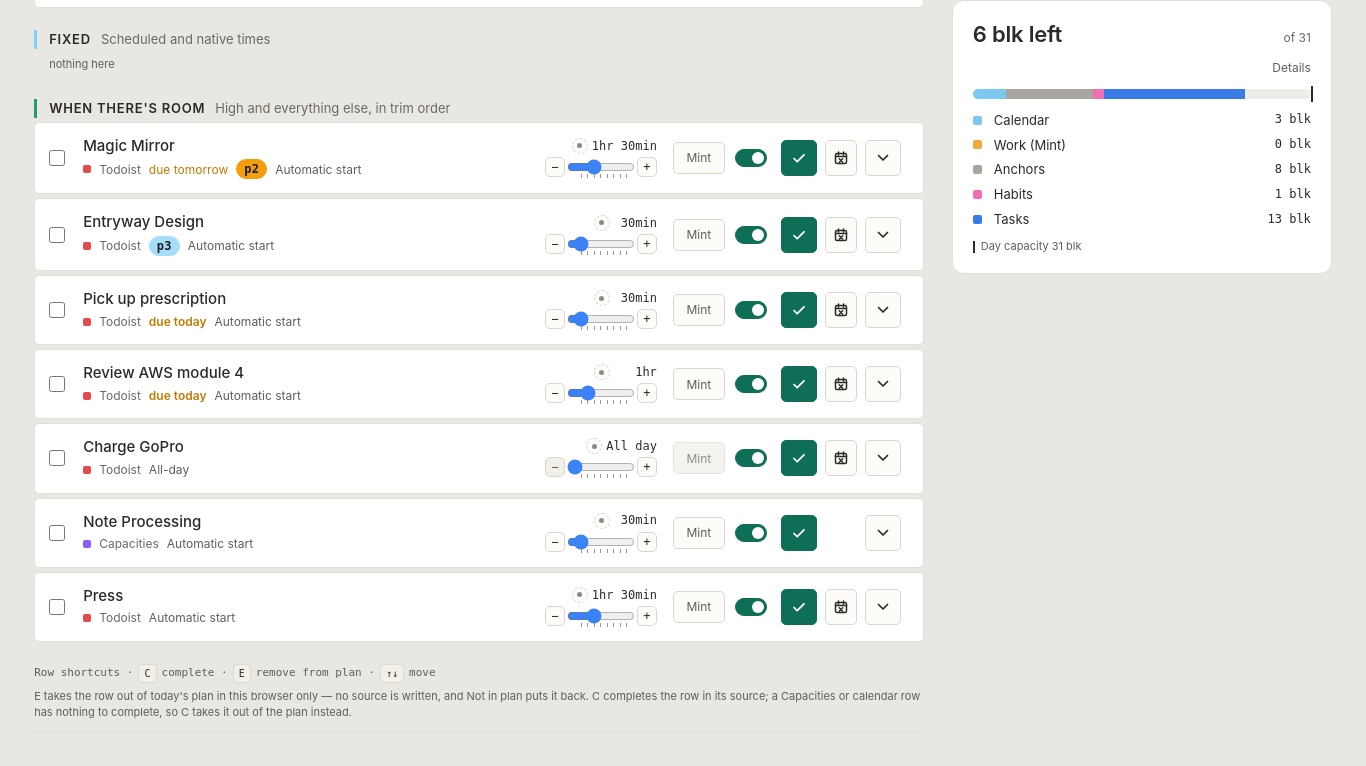
Test: #18 May overlap Mint toggle on the collapsed row › (b) is disabled with the written reason once the row goes all-day
(page scrolled)
What coordinates should you click on to do the following:
click the 7th button named "Expand"
I would click on:
 (883, 607)
Its box is [865,589,901,625].
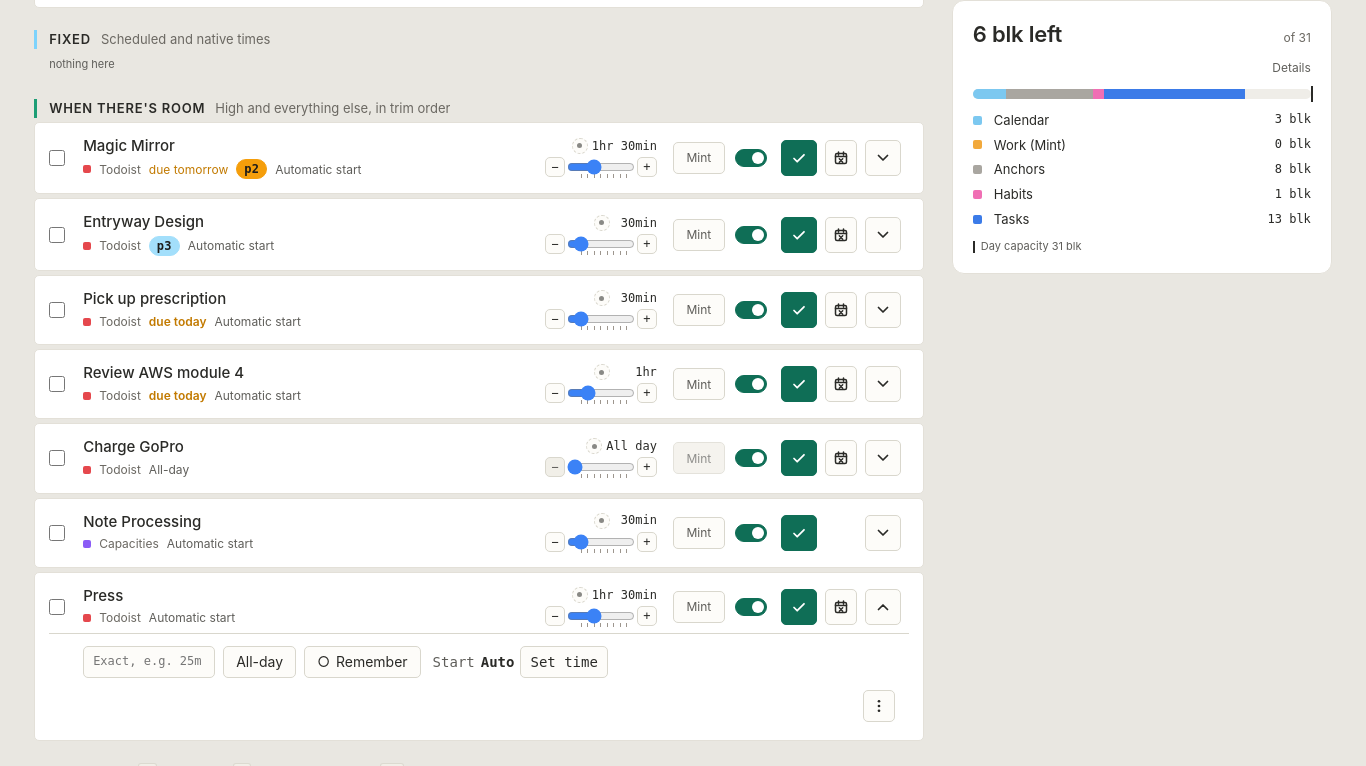
Check: the 7th button "Mint" is enabled, box [673,591,725,623]
What coordinates should you click on to do the following:
click the button "All-day"
I would click on:
 (260, 662)
Its box is [223,646,296,678].
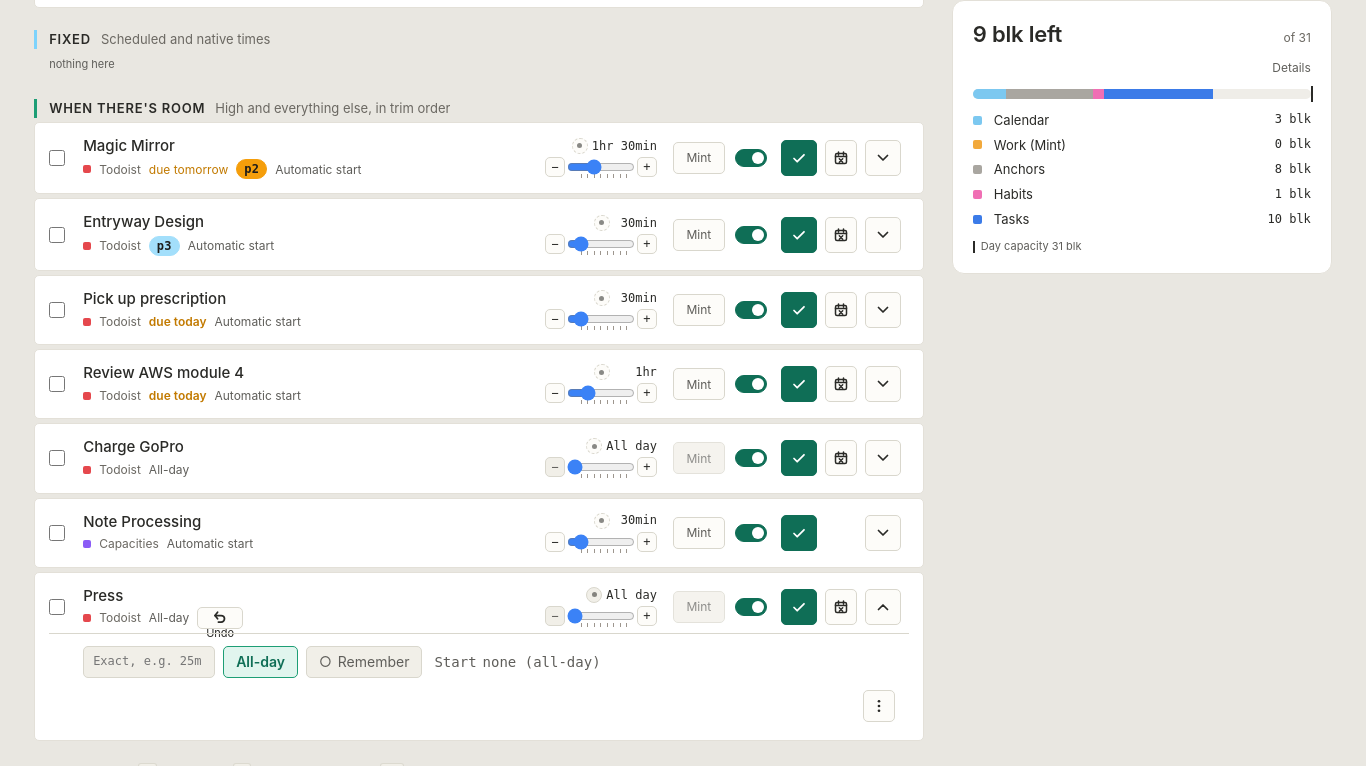
Check: the 7th button "Mint" is disabled, box [673,591,725,623]
